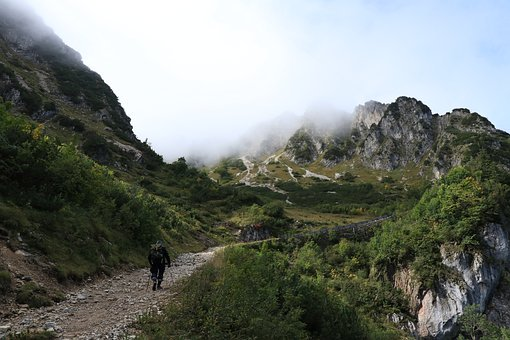mountain: (11, 16, 509, 339)
